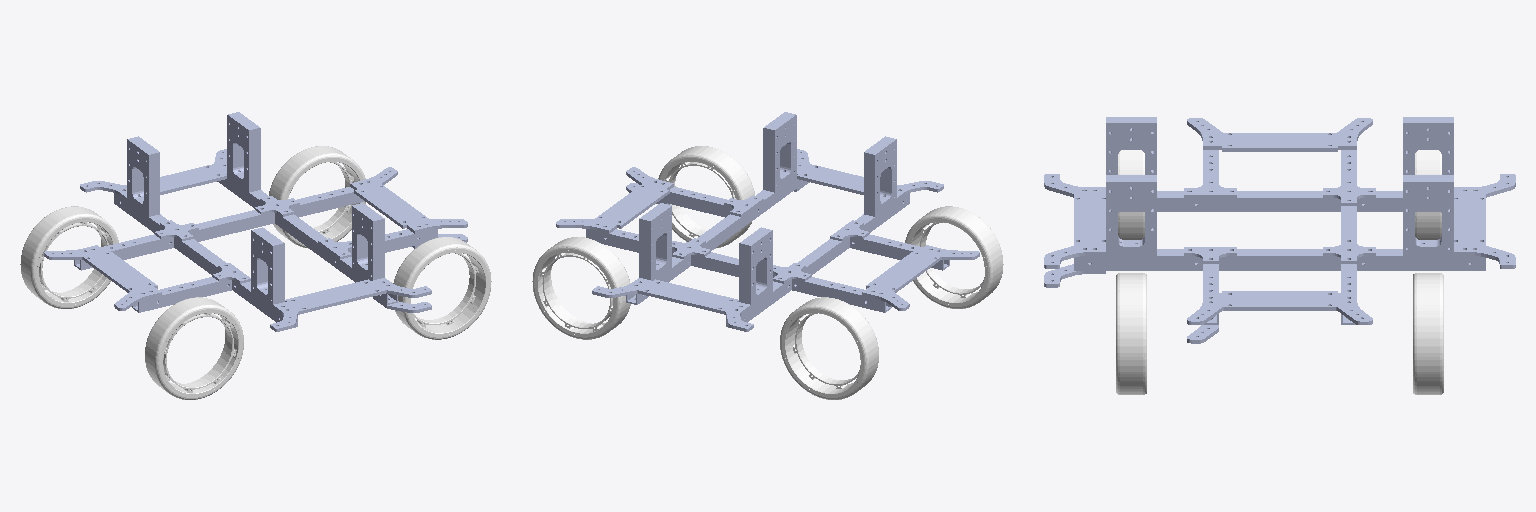
The robot description file, URDF, robot "起伏底盘 wheel 1-4":
<?xml version="1.0" encoding="utf-8"?>
<!-- This URDF was automatically created by SolidWorks to URDF Exporter! Originally created by Stephen Brawner (brawner@gmail.com) 
     Commit Version: 1.6.0-4-g7f85cfe  Build Version: 1.6.7995.38578
     For more information, please see http://wiki.ros.org/sw_urdf_exporter -->
<robot
  name="起伏底盘 wheel 1-4">
  <link
    name="base_link">
    <inertial>
      <origin
        xyz="0.000525210630645196 -9.88787776028818E-05 0.0228529229233079"
        rpy="0 0 0" />
      <mass
        value="4.30908483392141" />
      <inertia
        ixx="0.00356918503421658"
        ixy="2.91111233555378E-06"
        ixz="-1.58536389762567E-13"
        iyy="0.00315932138586126"
        iyz="-2.59640985562635E-14"
        izz="0.00442129535026619" />
    </inertial>
    <visual>
      <origin
        xyz="0 0 0"
        rpy="0 0 0" />
      <geometry>
        <mesh
          filename="package://chassis_description/meshes/base_link.STL" />
      </geometry>
      <material
        name="">
        <color
          rgba="0.792156862745098 0.819607843137255 0.933333333333333 1" />
      </material>
    </visual>
    <collision>
      <origin
        xyz="0 0 0"
        rpy="0 0 0" />
      <geometry>
        <mesh
          filename="package://chassis_description/meshes/base_link.STL" />
      </geometry>
    </collision>
  </link>
  <link
    name="w1">
    <inertial>
      <origin
        xyz="2.21156426505331E-13 -0.0310131419857252 -5.0563719877772E-14"
        rpy="0 0 0" />
      <mass
        value="0.0968885662811193" />
      <inertia
        ixx="0.000142054002080831"
        ixy="-1.76056439722202E-16"
        ixz="6.85752968055349E-16"
        iyy="0.000270826964366967"
        iyz="4.04461765349949E-17"
        izz="0.000142054002078526" />
    </inertial>
    <visual>
      <origin
        xyz="0 0 0"
        rpy="0 0 0" />
      <geometry>
        <mesh
          filename="package://chassis_description/meshes/w1.STL" />
      </geometry>
      <material
        name="">
        <color
          rgba="1 1 1 1" />
      </material>
    </visual>
    <collision>
      <origin
        xyz="0 0 0"
        rpy="0 0 0" />
      <geometry>
        <mesh
          filename="package://chassis_description/meshes/w1.STL" />
      </geometry>
    </collision>
  </link>
  <joint
    name="w1"
    type="fixed">
    <origin
      xyz="0.1615 -0.10895 -0.04"
      rpy="0 0 0" />
    <parent
      link="base_link" />
    <child
      link="w1" />
    <axis
      xyz="0 0 0" />
  </joint>
  <link
    name="w2">
    <inertial>
      <origin
        xyz="2.21295204383409E-13 -0.0310131419857247 -5.06504560515708E-14"
        rpy="0 0 0" />
      <mass
        value="0.0968885662811196" />
      <inertia
        ixx="0.000142054002080838"
        ixy="-1.7562802007376E-16"
        ixz="6.85790224897307E-16"
        iyy="0.000270826964366966"
        iyz="4.0237417683157E-17"
        izz="0.000142054002078533" />
    </inertial>
    <visual>
      <origin
        xyz="0 0 0"
        rpy="0 0 0" />
      <geometry>
        <mesh
          filename="package://chassis_description/meshes/w2.STL" />
      </geometry>
      <material
        name="">
        <color
          rgba="1 1 1 1" />
      </material>
    </visual>
    <collision>
      <origin
        xyz="0 0 0"
        rpy="0 0 0" />
      <geometry>
        <mesh
          filename="package://chassis_description/meshes/w2.STL" />
      </geometry>
    </collision>
  </link>
  <joint
    name="w2"
    type="fixed">
    <origin
      xyz="0.1615 0.17205 -0.04"
      rpy="0 0 0" />
    <parent
      link="base_link" />
    <child
      link="w2" />
    <axis
      xyz="0 0 0" />
  </joint>
  <link
    name="w3">
    <inertial>
      <origin
        xyz="-2.21350715534641E-13 0.0310131419857251 -5.07198449906099E-14"
        rpy="0 0 0" />
      <mass
        value="0.096888566281119" />
      <inertia
        ixx="0.000142054002080834"
        ixy="-1.75804051692341E-16"
        ixz="-6.8568793984376E-16"
        iyy="0.000270826964366966"
        iyz="-4.0245017491951E-17"
        izz="0.000142054002078529" />
    </inertial>
    <visual>
      <origin
        xyz="0 0 0"
        rpy="0 0 0" />
      <geometry>
        <mesh
          filename="package://chassis_description/meshes/w3.STL" />
      </geometry>
      <material
        name="">
        <color
          rgba="1 1 1 1" />
      </material>
    </visual>
    <collision>
      <origin
        xyz="0 0 0"
        rpy="0 0 0" />
      <geometry>
        <mesh
          filename="package://chassis_description/meshes/w3.STL" />
      </geometry>
    </collision>
  </link>
  <joint
    name="w3"
    type="fixed">
    <origin
      xyz="-0.1615 -0.17205 -0.04"
      rpy="0 0 0" />
    <parent
      link="base_link" />
    <child
      link="w3" />
    <axis
      xyz="0 0 0" />
  </joint>
  <link
    name="w4">
    <inertial>
      <origin
        xyz="-2.21156426505331E-13 0.0310131419857252 -5.0563719877772E-14"
        rpy="0 0 0" />
      <mass
        value="0.0968885662811193" />
      <inertia
        ixx="0.000142054002080831"
        ixy="-1.76056144471508E-16"
        ixz="-6.85753899441331E-16"
        iyy="0.000270826964366967"
        iyz="-4.04759497027718E-17"
        izz="0.000142054002078526" />
    </inertial>
    <visual>
      <origin
        xyz="0 0 0"
        rpy="0 0 0" />
      <geometry>
        <mesh
          filename="package://chassis_description/meshes/w4.STL" />
      </geometry>
      <material
        name="">
        <color
          rgba="1 1 1 1" />
      </material>
    </visual>
    <collision>
      <origin
        xyz="0 0 0"
        rpy="0 0 0" />
      <geometry>
        <mesh
          filename="package://chassis_description/meshes/w4.STL" />
      </geometry>
    </collision>
  </link>
  <joint
    name="w4"
    type="fixed">
    <origin
      xyz="-0.1615 0.10895 -0.04"
      rpy="0 0 0" />
    <parent
      link="base_link" />
    <child
      link="w4" />
    <axis
      xyz="0 0 0" />
  </joint>
</robot>

--- Render facts (derived) ---
The picture shows the robot from 3 angles, left to right: view 1: azimuth 30°, elevation 25°; view 2: azimuth 150°, elevation 25°; view 3: azimuth 270°, elevation 25°; orthographic projection.
Model 起伏底盘 wheel 1-4 with 5 links and 4 joints (4 fixed), rooted at base_link, posed all joints at 0.
Visible links, largest first — view 1: base_link, w3, w1, w4, w2; view 2: base_link, w4, w2, w3, w1; view 3: base_link, w1, w2, w3, w4.
Link boxes in pixels (left/top/right/bottom): base_link: left=44, top=112, right=467, bottom=331; w3: left=145, top=297, right=243, bottom=399; w1: left=393, top=237, right=491, bottom=339; w4: left=20, top=206, right=118, bottom=308; w2: left=269, top=146, right=365, bottom=248; base_link: left=556, top=112, right=979, bottom=331; w4: left=780, top=297, right=878, bottom=399; w2: left=532, top=237, right=630, bottom=339; w3: left=905, top=206, right=1003, bottom=308; w1: left=658, top=146, right=754, bottom=248; base_link: left=1044, top=117, right=1515, bottom=343; w1: left=1116, top=273, right=1146, bottom=394; w2: left=1413, top=273, right=1443, bottom=394; w3: left=1118, top=150, right=1144, bottom=239; w4: left=1415, top=150, right=1441, bottom=239.
Size in the robot's own frame: 0.456 by 0.446 by 0.1755 metres.
5 mesh visuals loaded from 5 distinct referenced files (5 binary STL).
